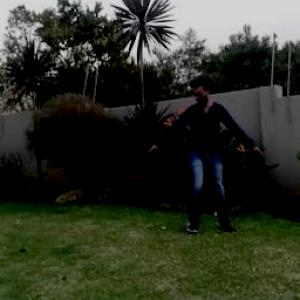land: (122, 70, 268, 250)
